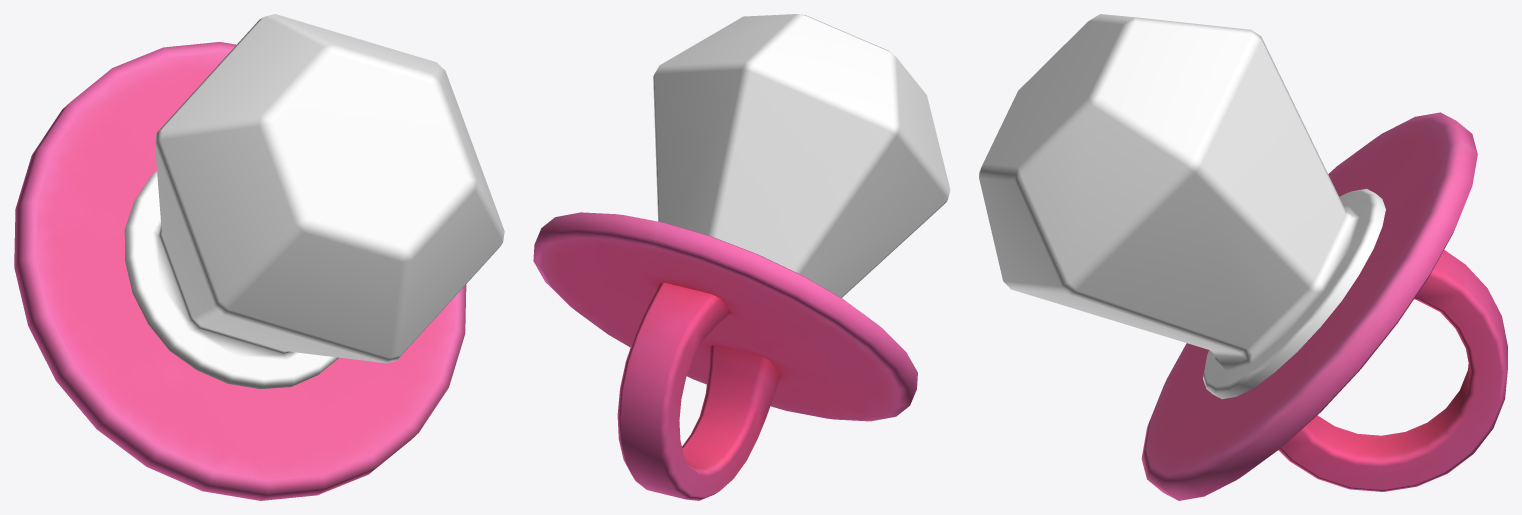
The model's file is GTRingCandy.glb.
The picture shows the model from 3 angles, left to right: view 1: azimuth 30°, elevation 25°; view 2: azimuth 150°, elevation 25°; view 3: azimuth 270°, elevation 25°; orthographic projection. The views are drawn at different scales.
Parts seen in each view (by area): view 1: jiezhitang; view 2: jiezhitang; view 3: jiezhitang.
Part boxes in pixels (x1,y1,x2,y2): jiezhitang: (14, 14, 504, 500); jiezhitang: (533, 14, 950, 500); jiezhitang: (979, 14, 1507, 500).
Size of the model in its own units: 0.7292 by 0.7815 by 0.8124.
Materials: 2 (1 with a texture image).
